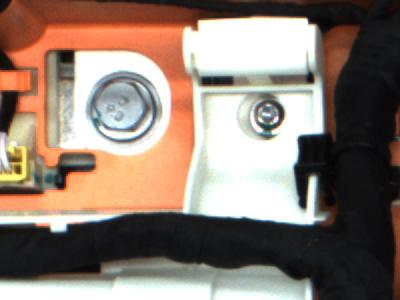nut_b: (83, 69, 167, 146)
screw_m: (239, 95, 296, 139)
